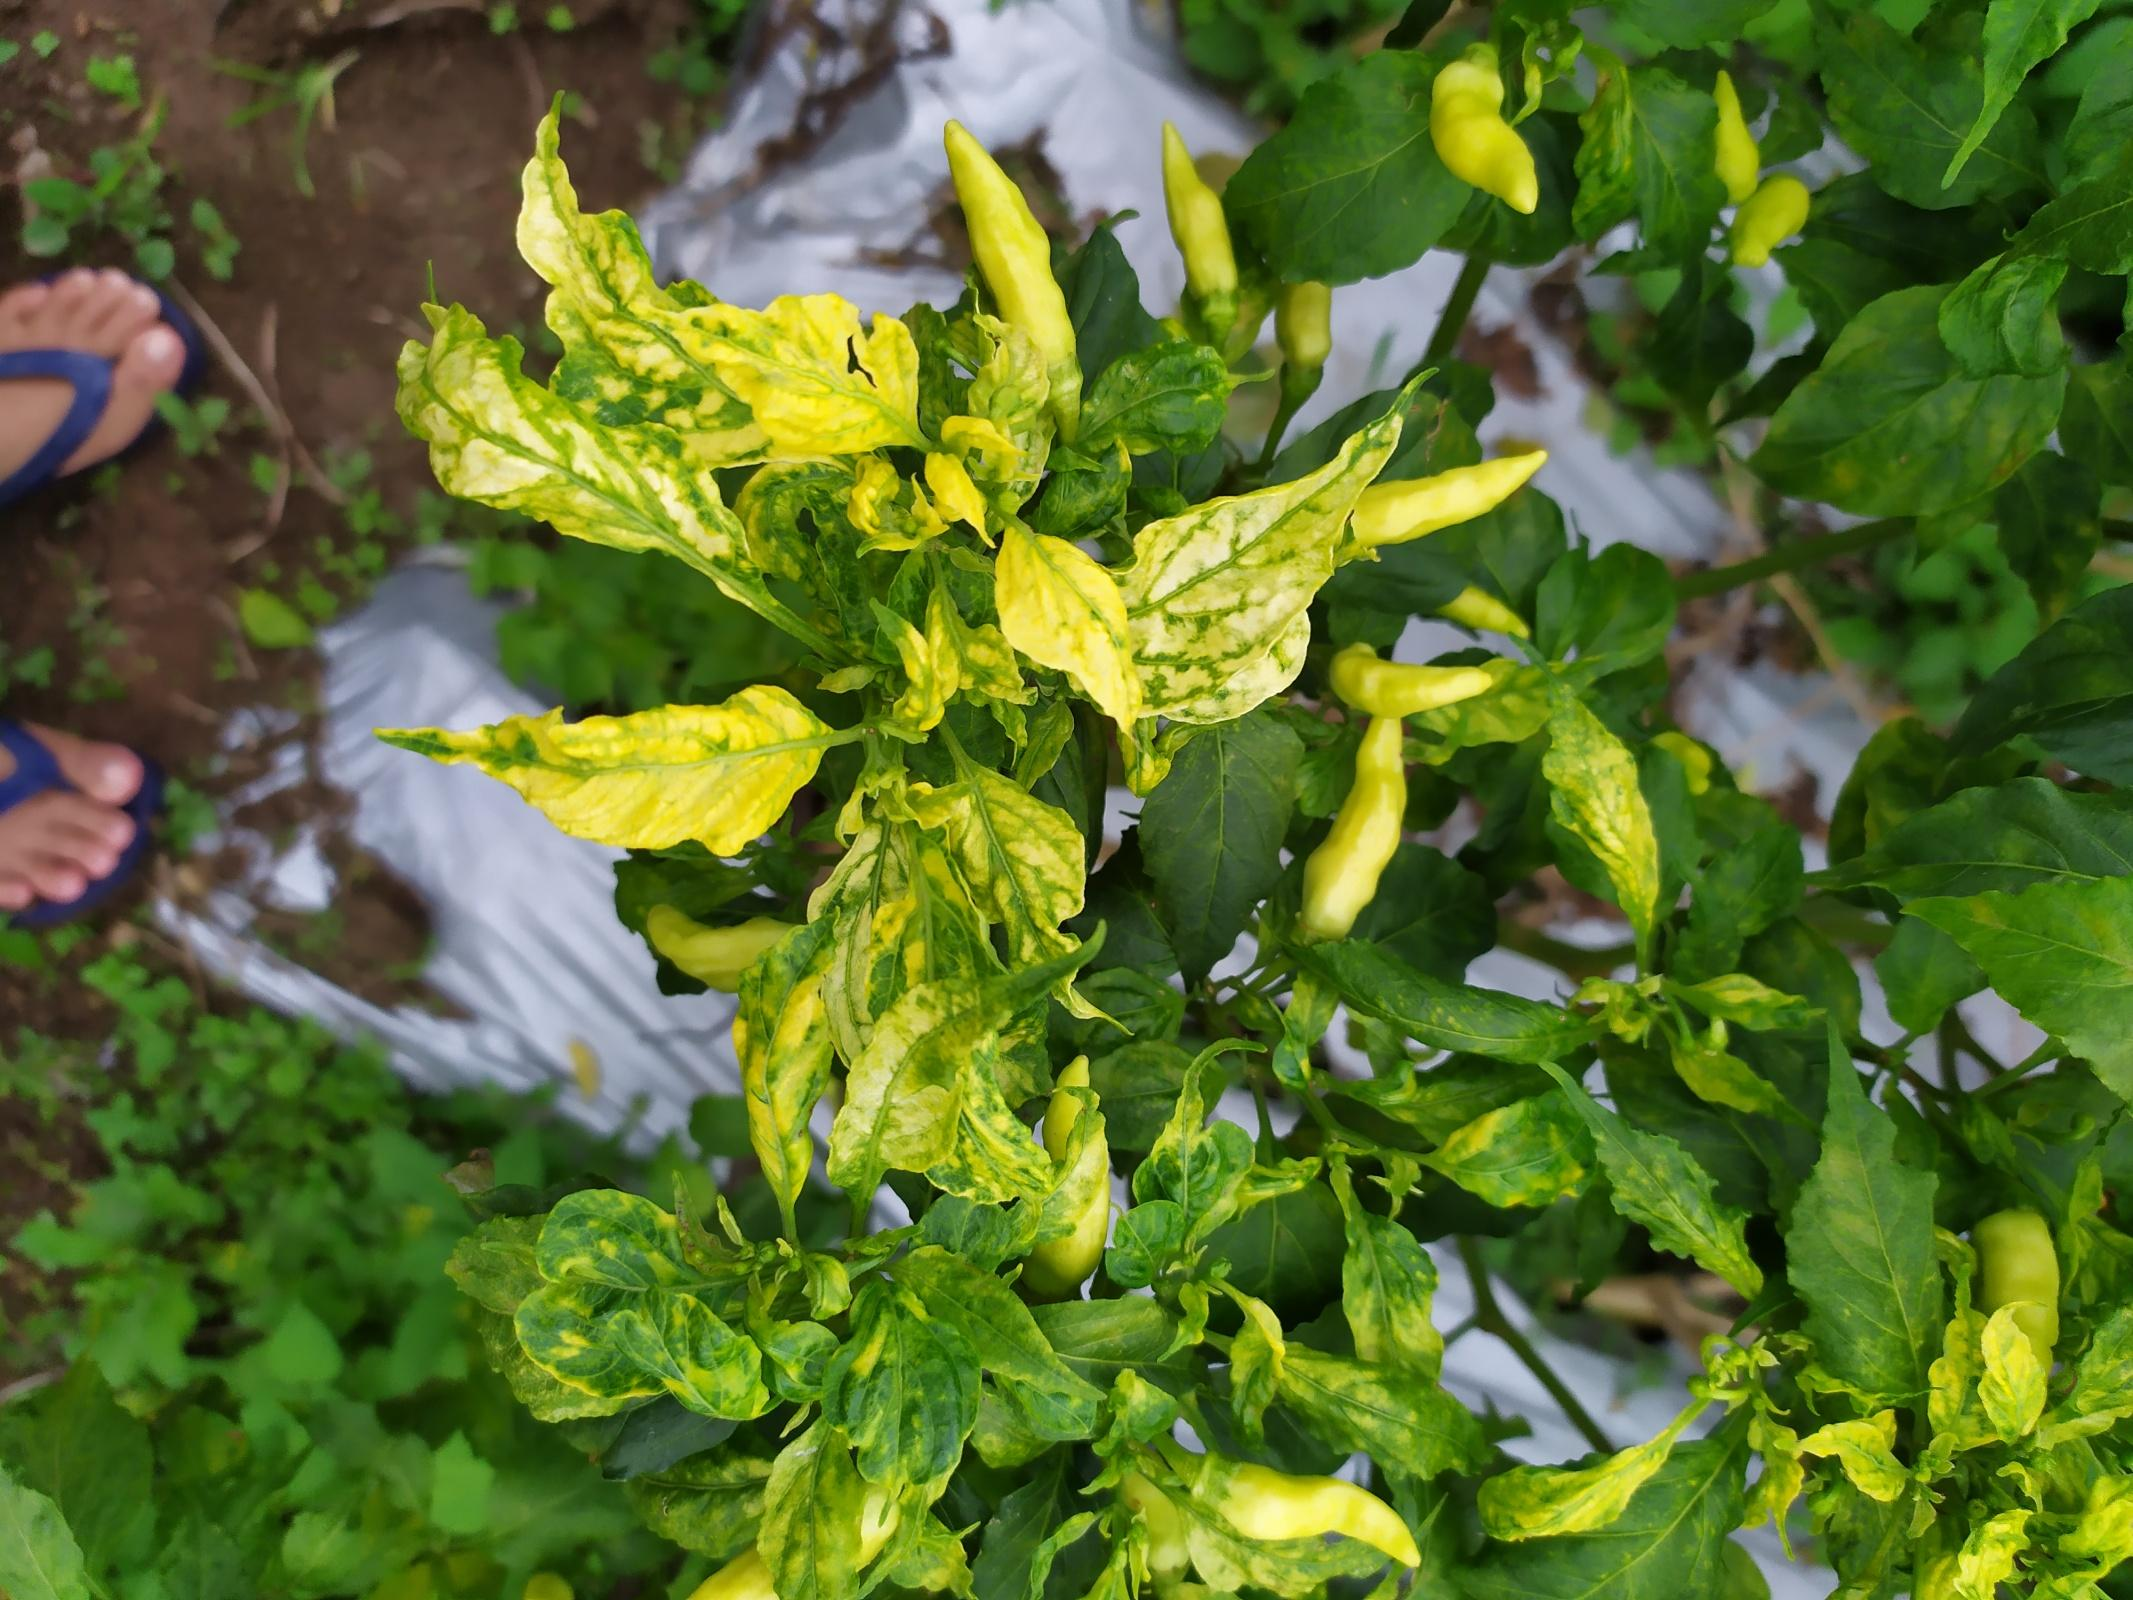cabai_normal: (943, 118, 1077, 376), (1193, 1459, 1420, 1573), (1304, 713, 1407, 946), (1348, 449, 1550, 555), (1429, 47, 1540, 217), (1160, 118, 1239, 314), (1325, 639, 1496, 719), (1730, 173, 1810, 264), (1709, 67, 1758, 200)
